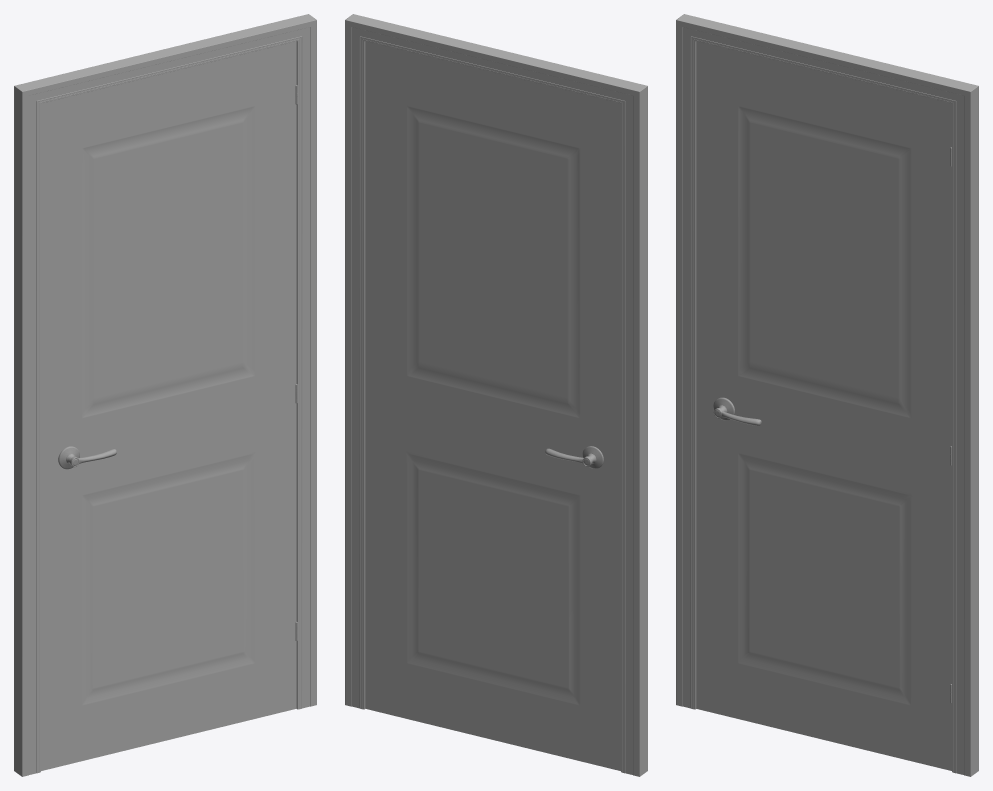
File: single-door.glb
3 views of the same model, side by side, from view 1: azimuth 30°, elevation 25°; view 2: azimuth 150°, elevation 25°; view 3: azimuth 330°, elevation 25° (orthographic).
Parts seen in each view (by area): view 1: door_frame, door_casing; view 2: door_frame, door_casing; view 3: door_frame, door_casing.
Part boxes in pixels (box(x1,y1,x2,y2)): door_frame: box(41, 41, 296, 770); door_casing: box(14, 14, 316, 776); door_frame: box(365, 41, 620, 770); door_casing: box(345, 14, 647, 776); door_frame: box(696, 41, 951, 770); door_casing: box(676, 14, 978, 776).
Bounding box in the file's own units: 0.9144 × 2.03 × 0.1251.
2 materials, 2 textured.
